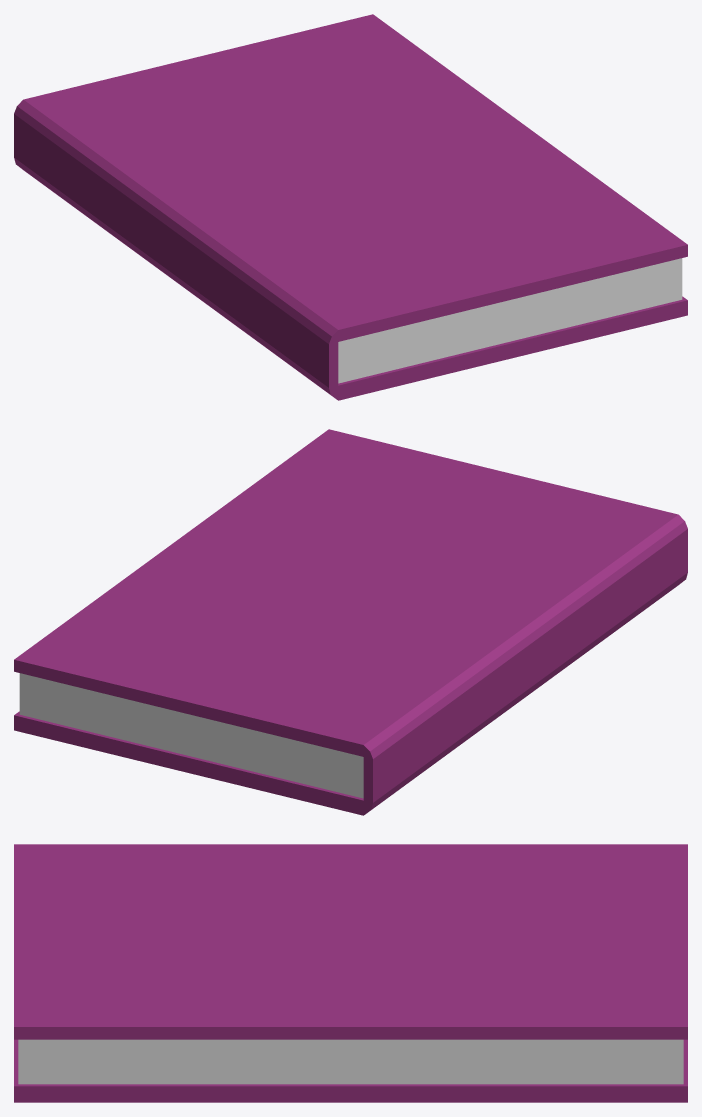
The model's file is libroMorado.fbx.
3 views of the same model, one above another, from view 1: azimuth 30°, elevation 25°; view 2: azimuth 150°, elevation 25°; view 3: azimuth 270°, elevation 25° (orthographic). The views are drawn at different scales.
Parts seen in each view (by area): view 1: Cube; view 2: Cube; view 3: Cube.
Part boxes in pixels (x1,y1,x2,y2): Cube: (14, 14, 687, 400); Cube: (14, 429, 687, 815); Cube: (14, 844, 687, 1102).
Size of the model in its own units: 78.65 by 14.8 by 119.
